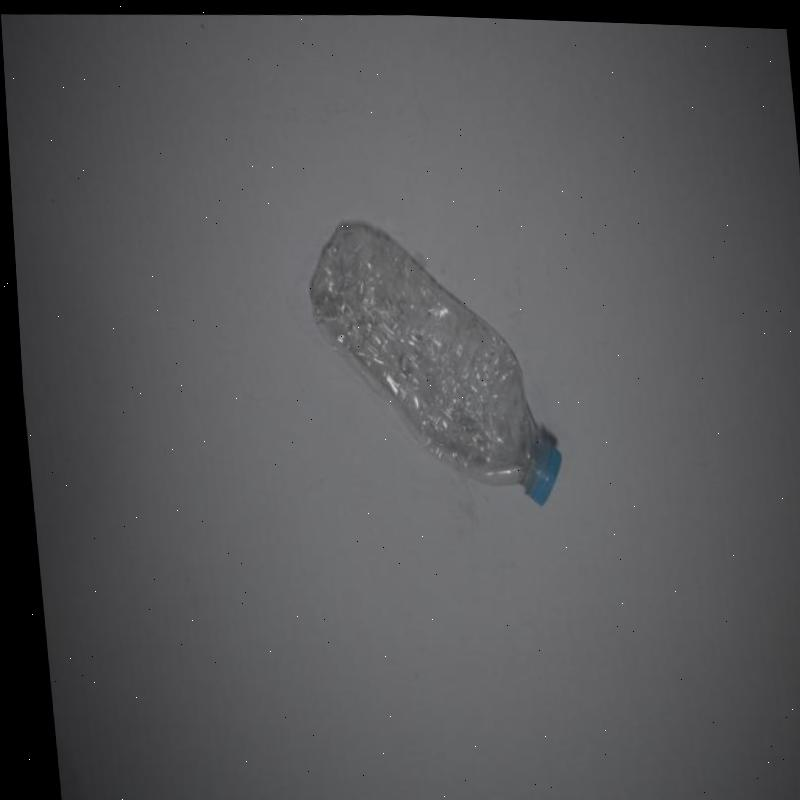botella: (298, 207, 561, 512)
